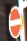No entry: (6, 6, 22, 36)
